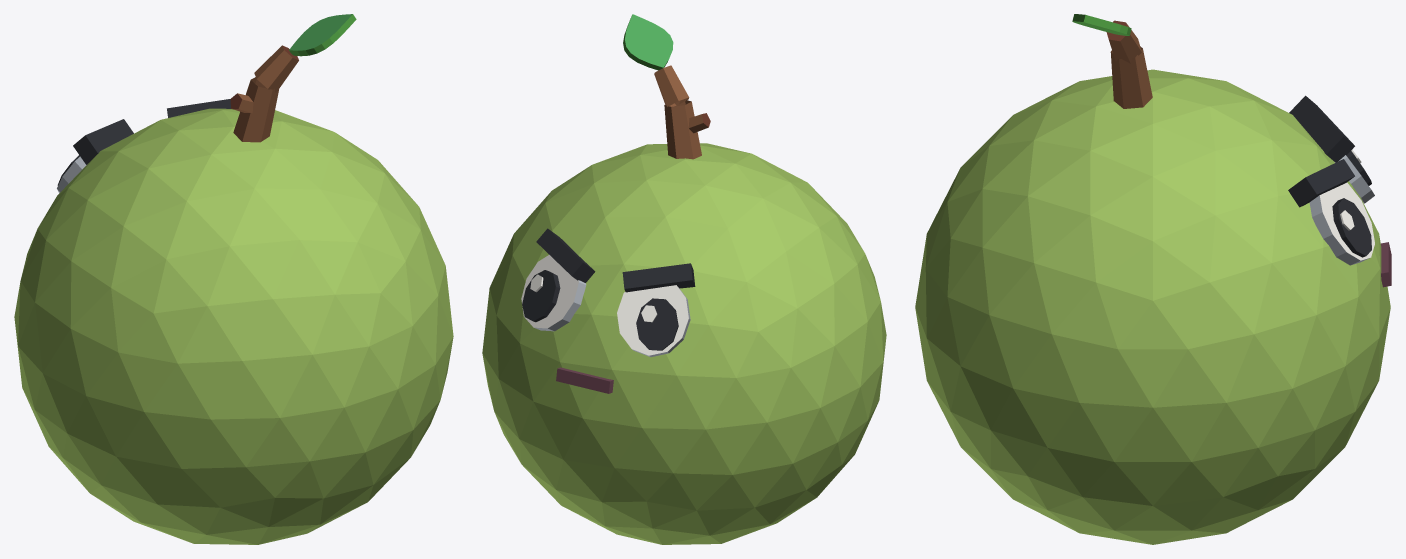
The model's file is CH_Dalcik_T3.fbx.
3 views of the same model, side by side, from view 1: azimuth 30°, elevation 25°; view 2: azimuth 150°, elevation 25°; view 3: azimuth 270°, elevation 25° (orthographic). The views are drawn at different scales.
Parts seen in each view (by area): view 1: CH_Dalcik_T3; view 2: CH_Dalcik_T3; view 3: CH_Dalcik_T3.
Part boxes in pixels (left/top/right/bottom): CH_Dalcik_T3: left=14, top=14, right=453, bottom=544; CH_Dalcik_T3: left=482, top=14, right=886, bottom=544; CH_Dalcik_T3: left=915, top=14, right=1391, bottom=544.
Size of the model in its own units: 1 by 1.29 by 1.
